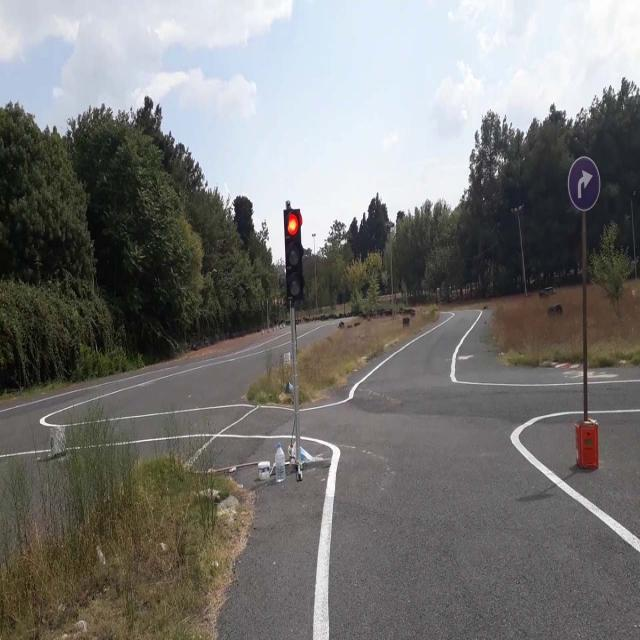kirmizi: (284, 210, 304, 298)
sag: (569, 158, 599, 208)
